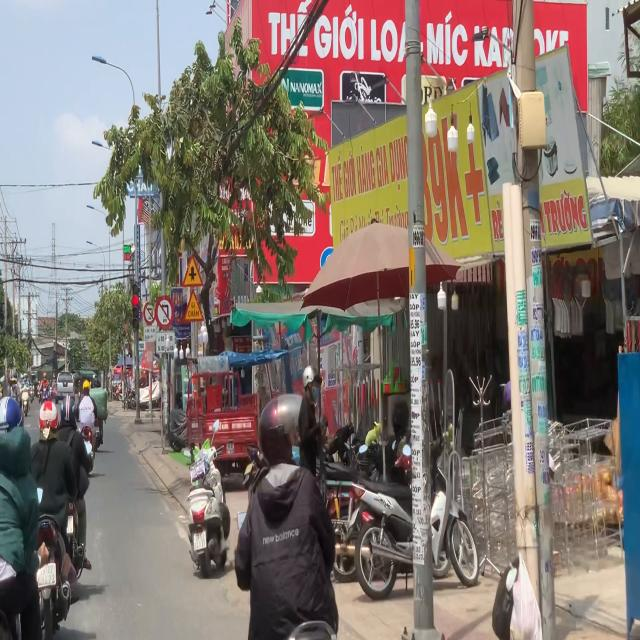Cam re trai: (155, 295, 174, 329), (144, 301, 156, 325)
Giao voi duong khong uu tien: (182, 254, 204, 287)
Nguy hiem: (184, 289, 204, 321)
